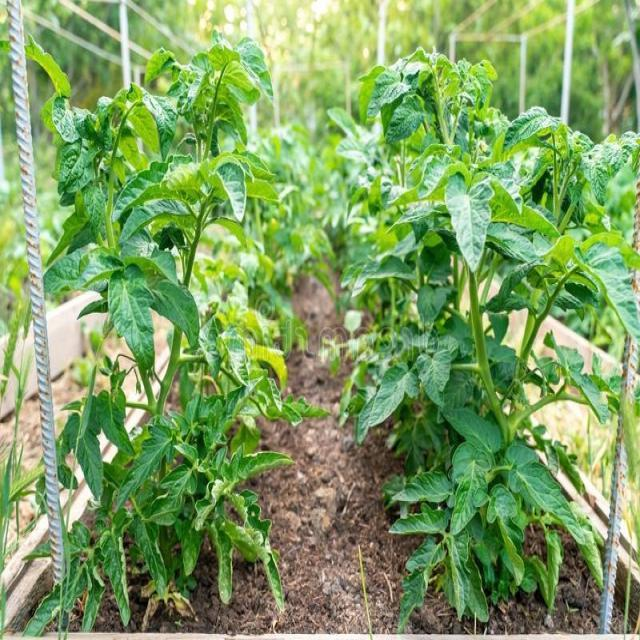tomato: (339, 48, 640, 625), (26, 36, 311, 636)
